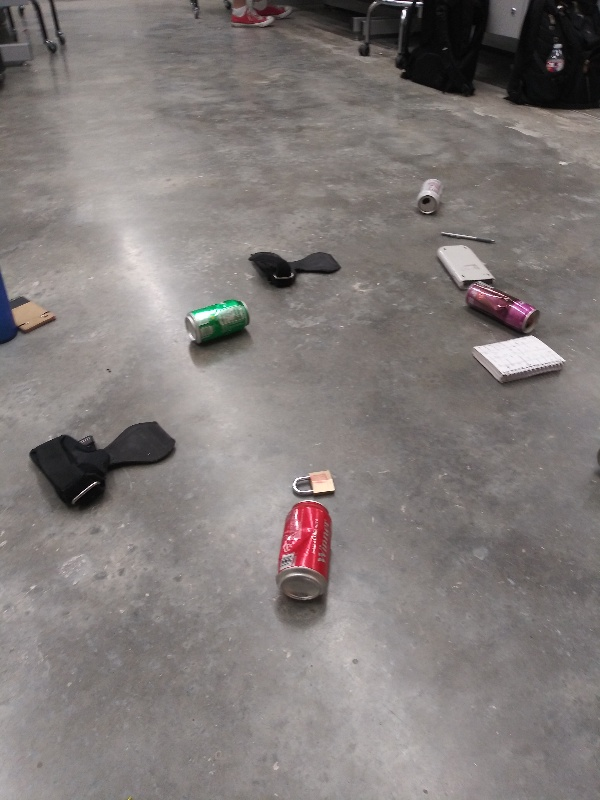can: (271, 496, 337, 608), (460, 277, 542, 333), (181, 297, 256, 352), (413, 174, 444, 221)
